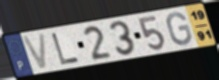2: (82, 25, 113, 63)
3: (109, 20, 138, 57)
5: (136, 14, 168, 52)
G: (166, 11, 194, 47)
L: (50, 32, 82, 67)
V: (20, 31, 49, 72)
